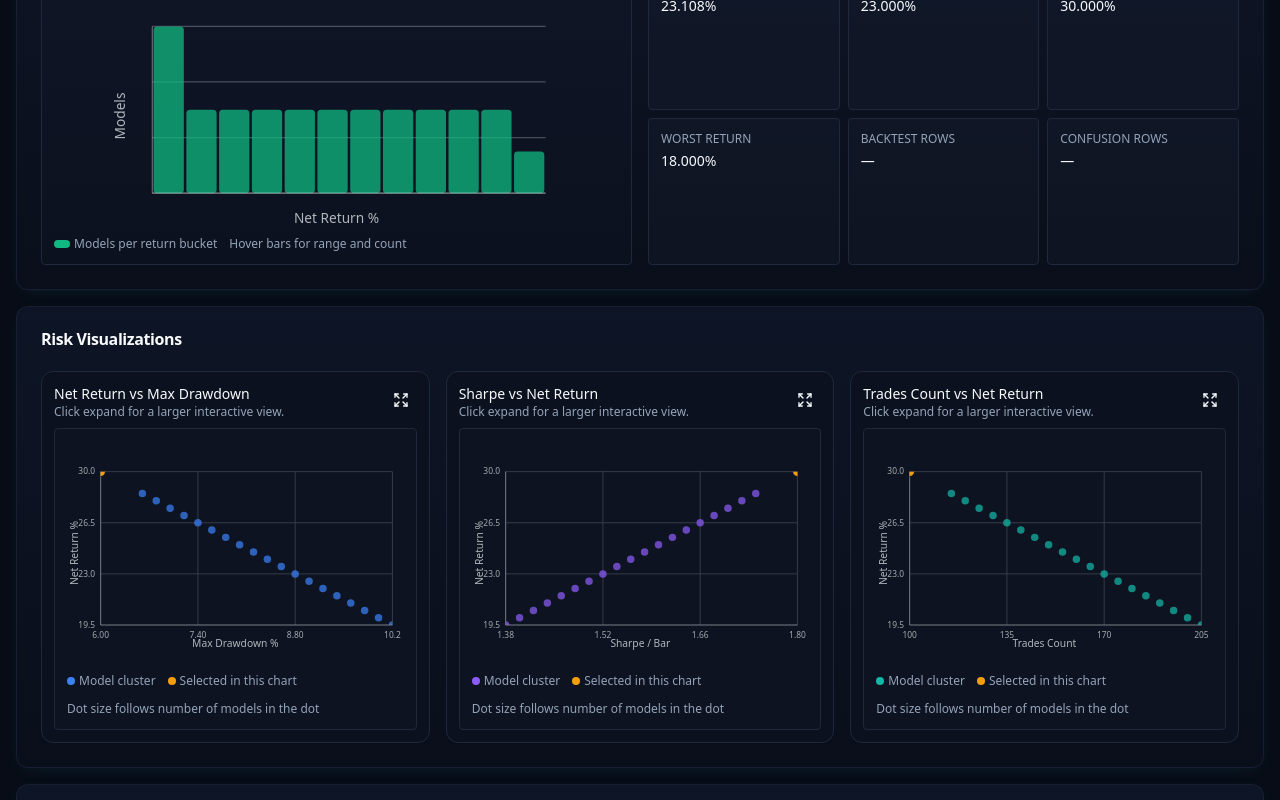
Test: ExperimentDetailView › opens expanded risk chart modal with guidance text
Later steps or results of the test are not shown.
(page scrolled)
Step 1. Click the button named "Expand Net Return vs Max Drawdown" → (401, 400), box top-left (385, 384), bottom-right (417, 416)
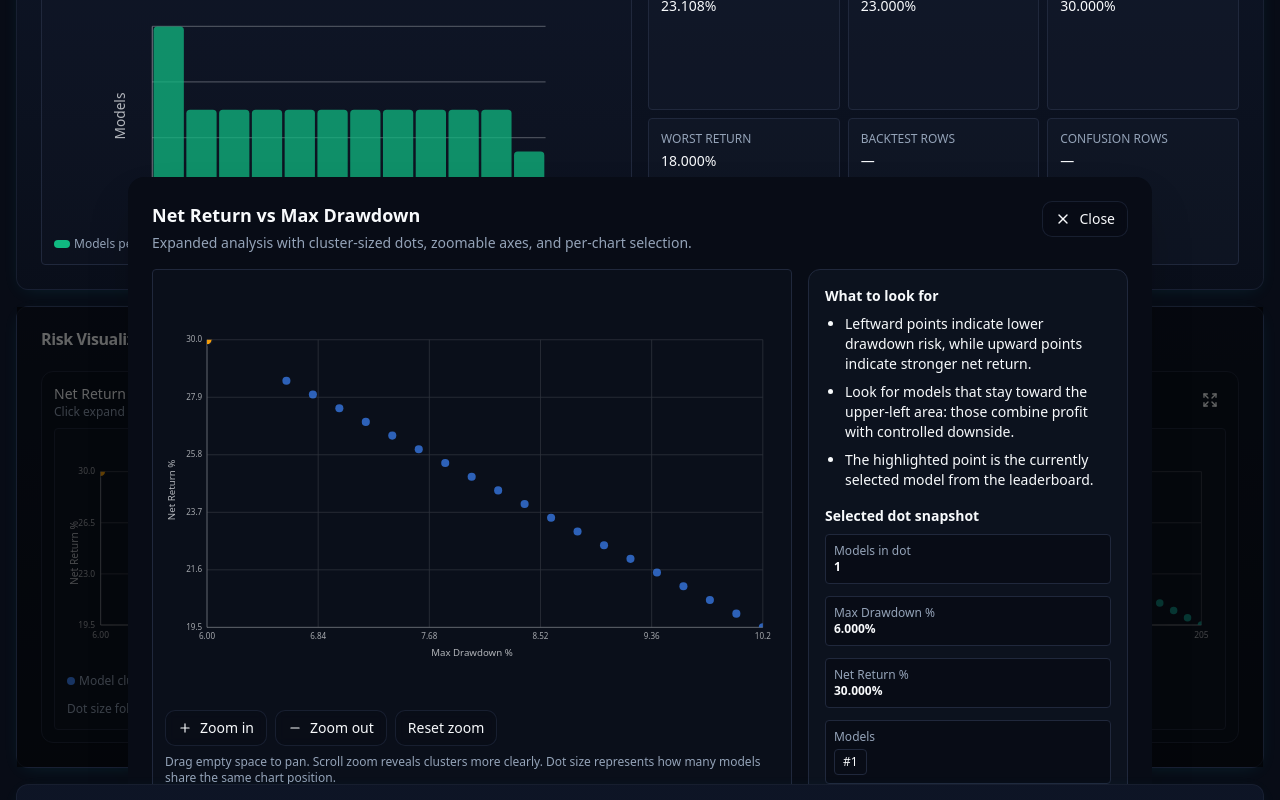
Expected: the dialog "Net Return vs Max Drawdown" is shown, top-left (17, 307), bottom-right (1263, 767)
Expected: the text "What to look for" is shown, top-left (825, 286), bottom-right (939, 305)
Expected: the list item "upper-left area" is shown, top-left (845, 382), bottom-right (1088, 441)
